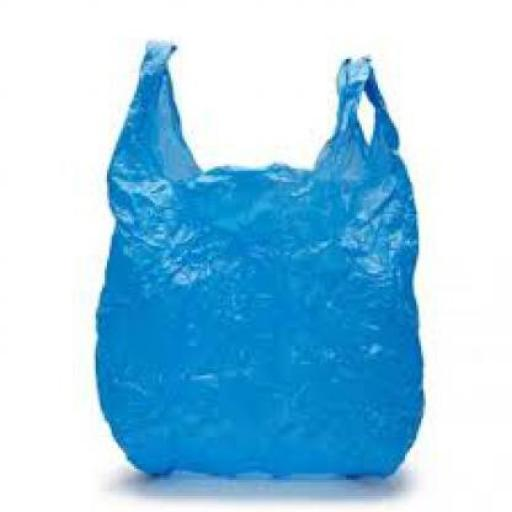plastic: (91, 38, 423, 476)
